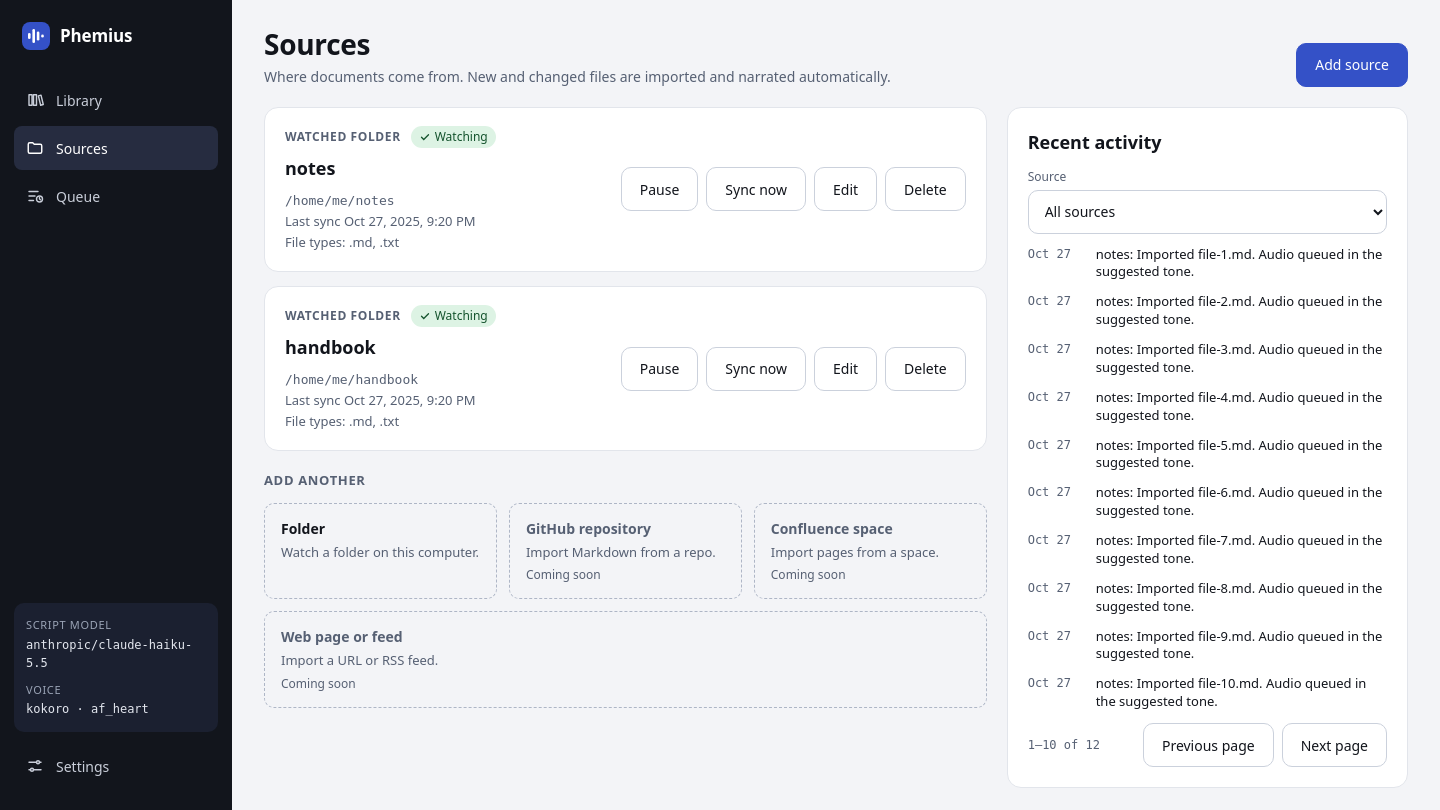
Test: recent activity › pages through older activity
Check: the text "file-1.md" is shown, box [1096,245,1382,280]
Click the button "Next page": (1334, 745) [1282,723,1387,767]
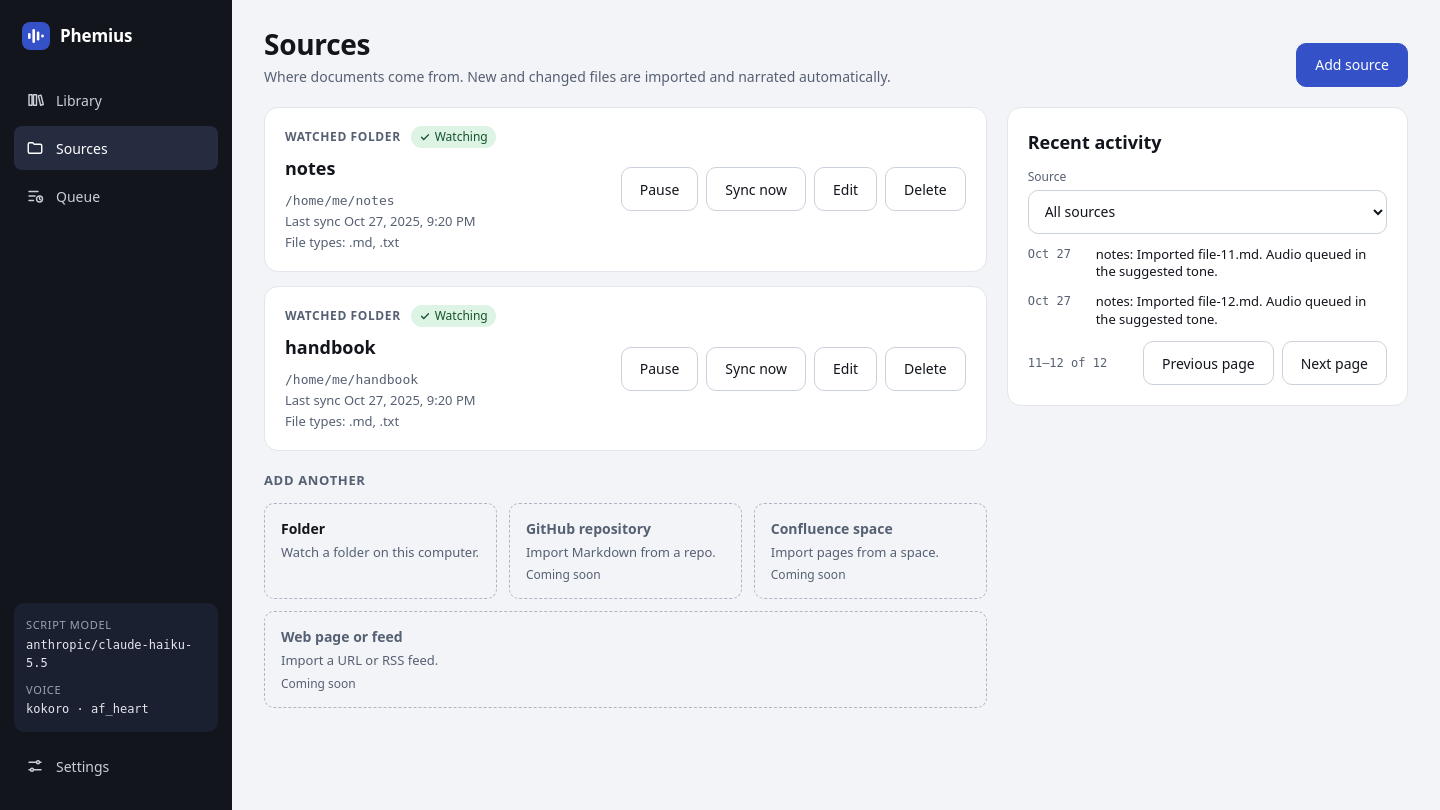
Check: the text "file-11.md" is shown, box [1096,245,1366,280]
Check: the text "file-1.md" is gone
